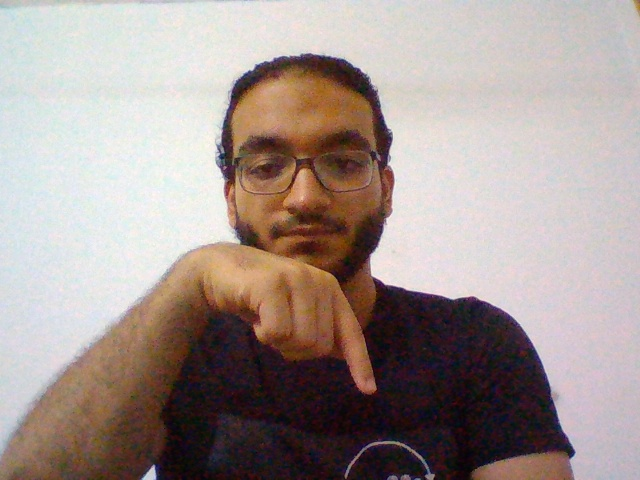Yes: (184, 230, 385, 395)
